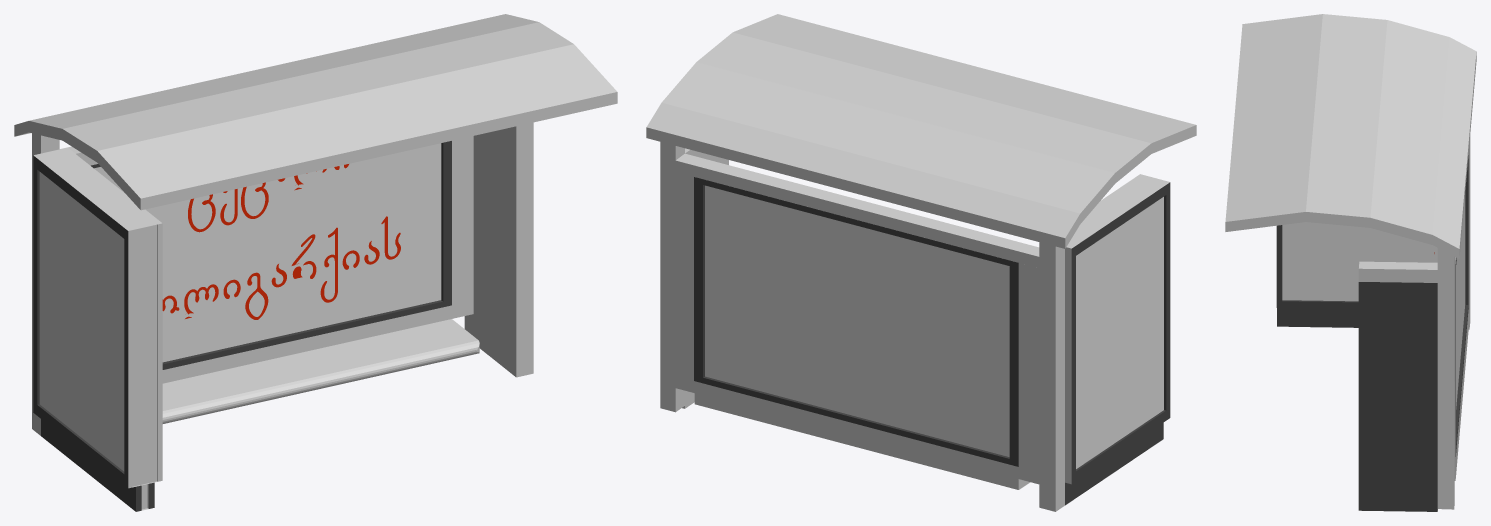
Rendered from bus_stop_new.glb.
The picture shows the model from 3 angles, left to right: view 1: azimuth 30°, elevation 25°; view 2: azimuth 150°, elevation 25°; view 3: azimuth 270°, elevation 25°; orthographic projection. The views are drawn at different scales.
Parts seen in each view (by area): view 1: gachereba_Material_0; view 2: gachereba_Material_0; view 3: gachereba_Material_0.
Part boxes in pixels (x1,y1,x2,y2): gachereba_Material_0: (14, 14, 617, 511); gachereba_Material_0: (646, 14, 1196, 511); gachereba_Material_0: (1225, 14, 1476, 511).
Size of the model in its own units: 3.56 by 2.5 by 1.88.
